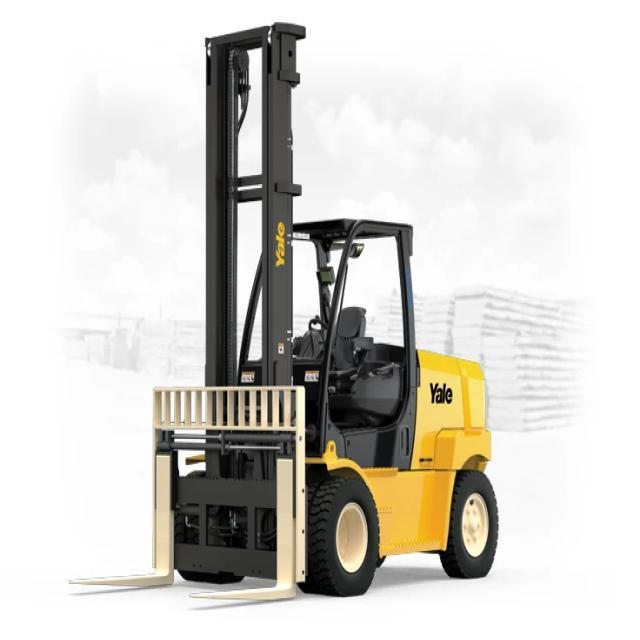forklift: (127, 18, 503, 622)
